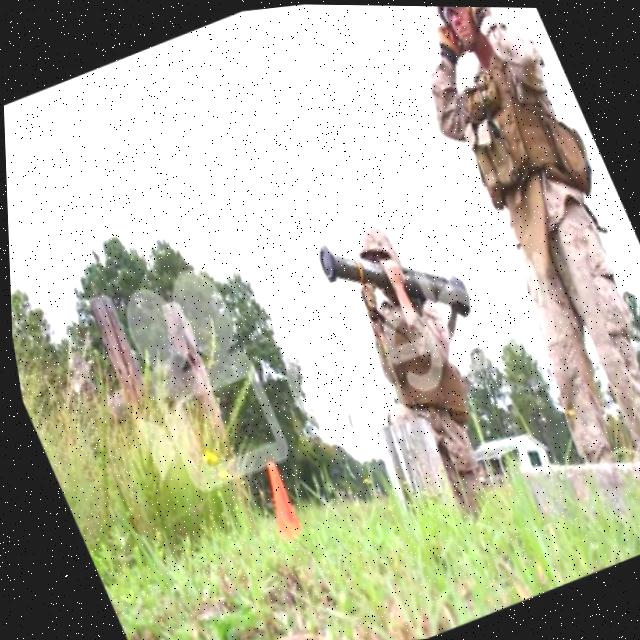rocket: (304, 194, 484, 373)
